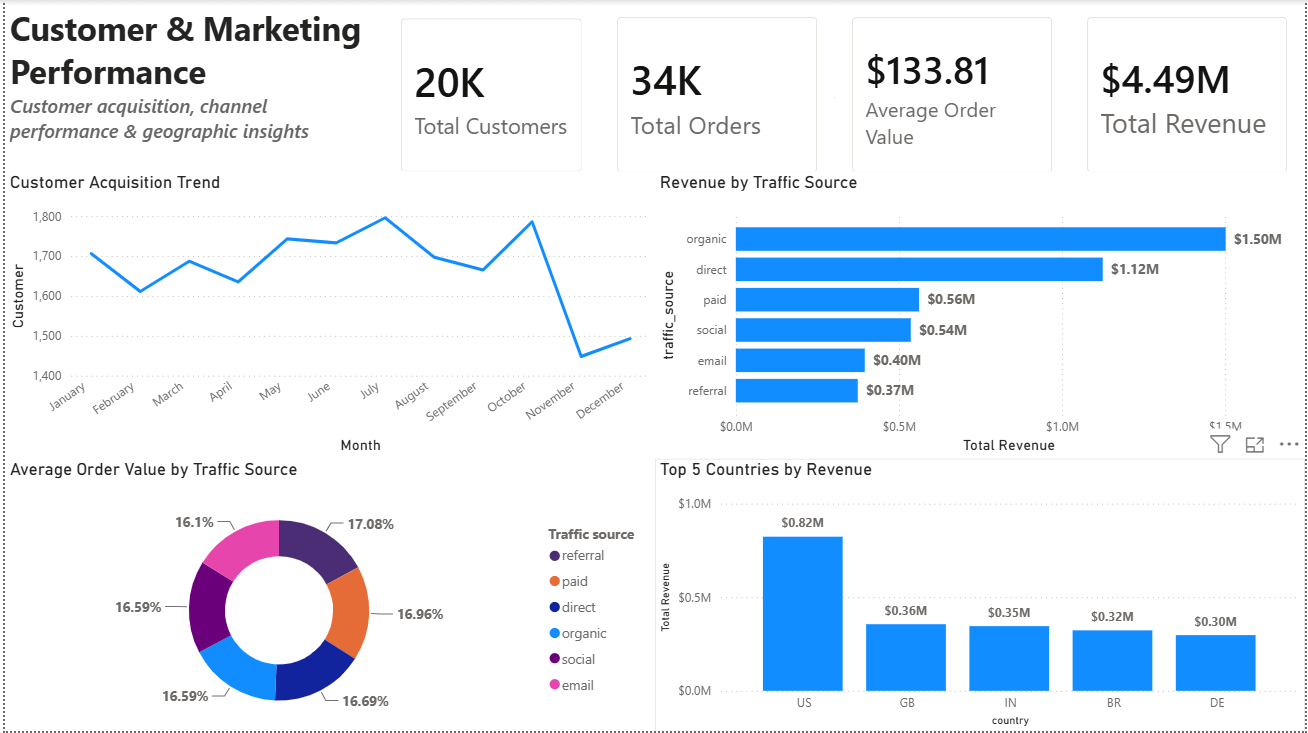

This screenshot's page, from the dashboard's own definition file:
{"tool":"powerbi","page":{"name":"Customer & Marketing Analysis","canvas":[1280,720],"ordinal":3},"visuals":[{"type":"cardVisual","fields":{"Data":["retail_sales_analytics customer.Total Customers"]},"box":[372.9,1.2,212.9,185.8],"z":0},{"type":"cardVisual","fields":{"Data":["retail_sales_analytics orders.Total Orders"]},"box":[585.8,0,231.4,187.1],"z":1000},{"type":"cardVisual","fields":{"Data":["retail_sales_analytics orders.Average Order Value"]},"box":[817.2,0,231.4,187.1],"z":2000},{"type":"cardVisual","fields":{"Data":["retail_sales_analytics orders.Total Revenue"]},"box":[1048.6,0,231.4,187.1],"z":3000},{"type":"clusteredBarChart","title":"Revenue by Traffic Source","fields":{"Y":["retail_sales_analytics orders.Total Revenue"],"Category":["retail_sales_analytics orders.traffic_source"]},"box":[640,168.6,640,283.1],"z":4000},{"type":"donutChart","title":"Average Order Value by Traffic Source","fields":{"Y":["retail_sales_analytics orders.Average Order Value"],"Category":["retail_sales_analytics orders.traffic_source"]},"box":[0,451.7,640,268.3],"z":5000},{"type":"columnChart","title":"Top 5 Countries by Revenue","fields":{"Category":["retail_sales_analytics orders.country"],"Y":["retail_sales_analytics orders.Total Revenue"]},"box":[640,451.7,640,268.3],"z":7000},{"type":"textbox","box":[0,1,373,186],"z":8000},{"type":"lineChart","title":"Customer Acquisition Trend","fields":{"Category":["retail_sales_analytics customer.signup_date.Variation.Date Hierarchy.Month"],"Y":["CountNonNull(retail_sales_analytics customer.customer_id)"]},"box":[0,168.6,640,283.1],"z":8001}]}

Visuals, with their boxes in screenshot pixels (x1, y1, x2, y2), scaled from the page's 1280x720 canvas onto the 1308x733 screenshot:
cardVisual - retail_sales_analytics customer.Total Customers: bbox=(381, 1, 599, 190)
cardVisual - retail_sales_analytics orders.Total Orders: bbox=(599, 0, 835, 190)
cardVisual - retail_sales_analytics orders.Average Order Value: bbox=(835, 0, 1072, 190)
cardVisual - retail_sales_analytics orders.Total Revenue: bbox=(1072, 0, 1307, 190)
"Revenue by Traffic Source" clusteredBarChart: bbox=(654, 172, 1307, 460)
"Average Order Value by Traffic Source" donutChart: bbox=(0, 460, 654, 732)
"Top 5 Countries by Revenue" columnChart: bbox=(654, 460, 1307, 732)
textbox: bbox=(0, 1, 381, 190)
"Customer Acquisition Trend" lineChart: bbox=(0, 172, 654, 460)
